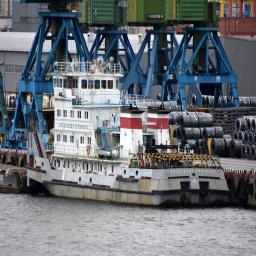tugboat: (24, 52, 234, 215)
